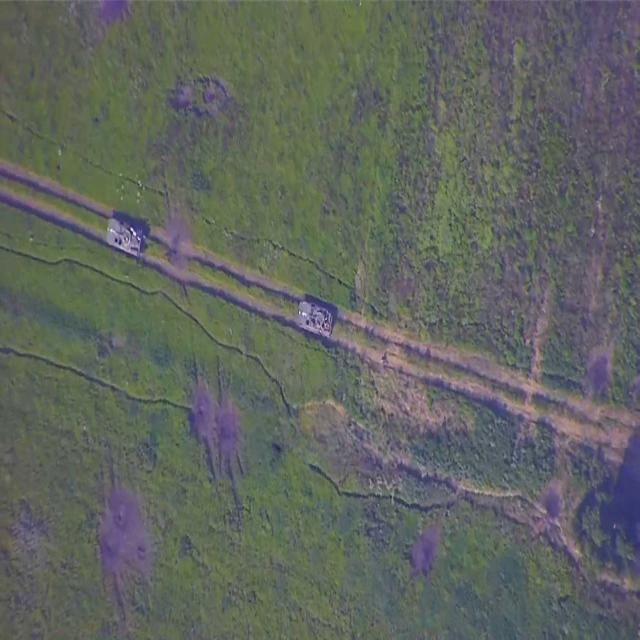AIFV: (104, 217, 146, 263), (296, 299, 337, 341)
